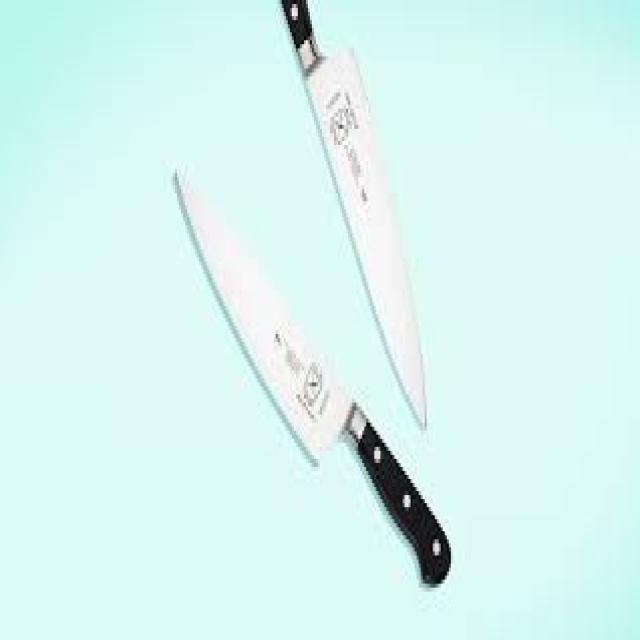knives: (169, 157, 453, 596), (274, 0, 431, 435)
